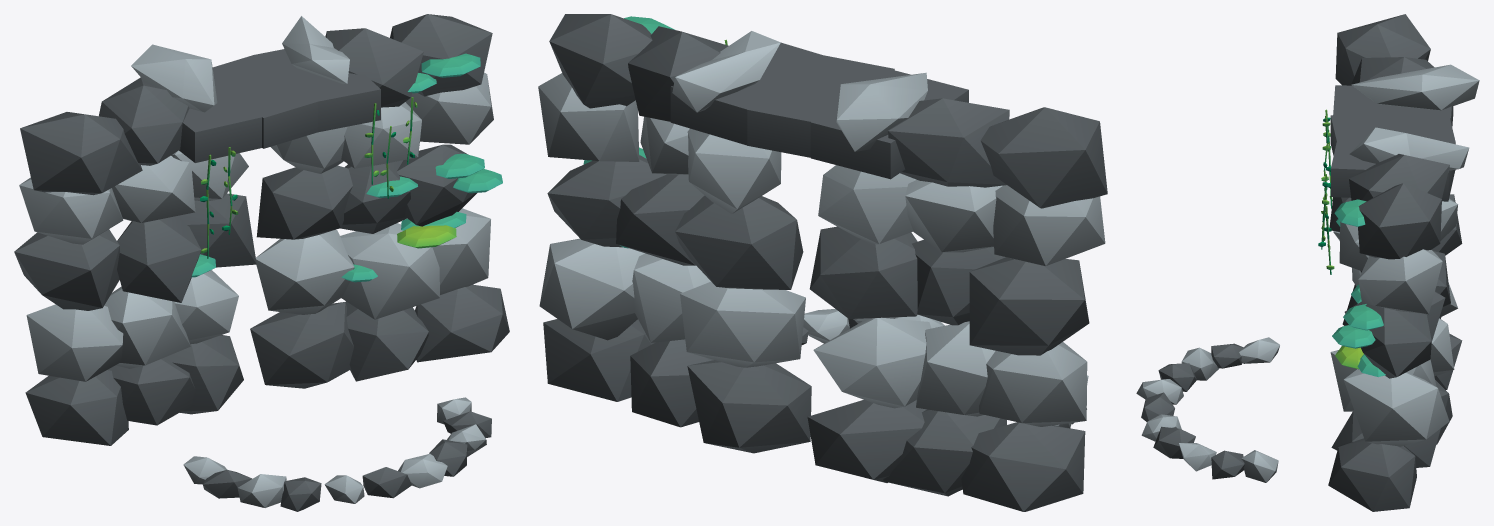
The model's file is waterfall.glb.
3 renders of one model, left to right at view 1: azimuth 30°, elevation 25°; view 2: azimuth 150°, elevation 25°; view 3: azimuth 270°, elevation 25°, orthographic. The views are drawn at different scales.
Parts seen in each view (by area): view 1: waterfall; view 2: waterfall; view 3: waterfall.
Part boxes in pixels (bbox=[...]): waterfall: bbox=[14, 14, 509, 511]; waterfall: bbox=[538, 14, 1107, 511]; waterfall: bbox=[1136, 14, 1479, 511].
Size of the model in its own units: 12.94 by 9.1 by 8.73.
Materials: 1 (1 with a texture image).
